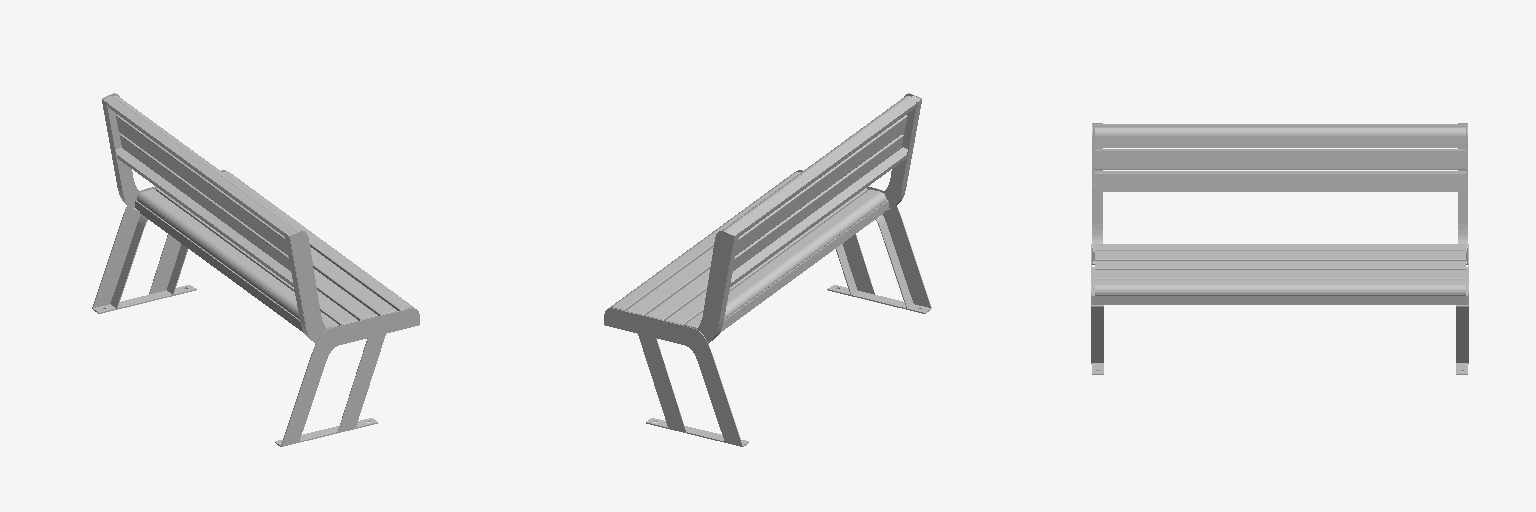
Rendered from chair.obj.
3 views of the same model, side by side, from view 1: azimuth 30°, elevation 25°; view 2: azimuth 150°, elevation 25°; view 3: azimuth 270°, elevation 25° (orthographic).
Parts seen in each view (by area): view 1: ChamferBo4; view 2: ChamferBo4; view 3: ChamferBo4.
Part boxes in pixels (bbox=[...]): ChamferBo4: bbox=[92, 93, 419, 446]; ChamferBo4: bbox=[604, 93, 931, 446]; ChamferBo4: bbox=[1091, 123, 1468, 374].
Size of the model in its own units: 63.76 by 92.76 by 151.